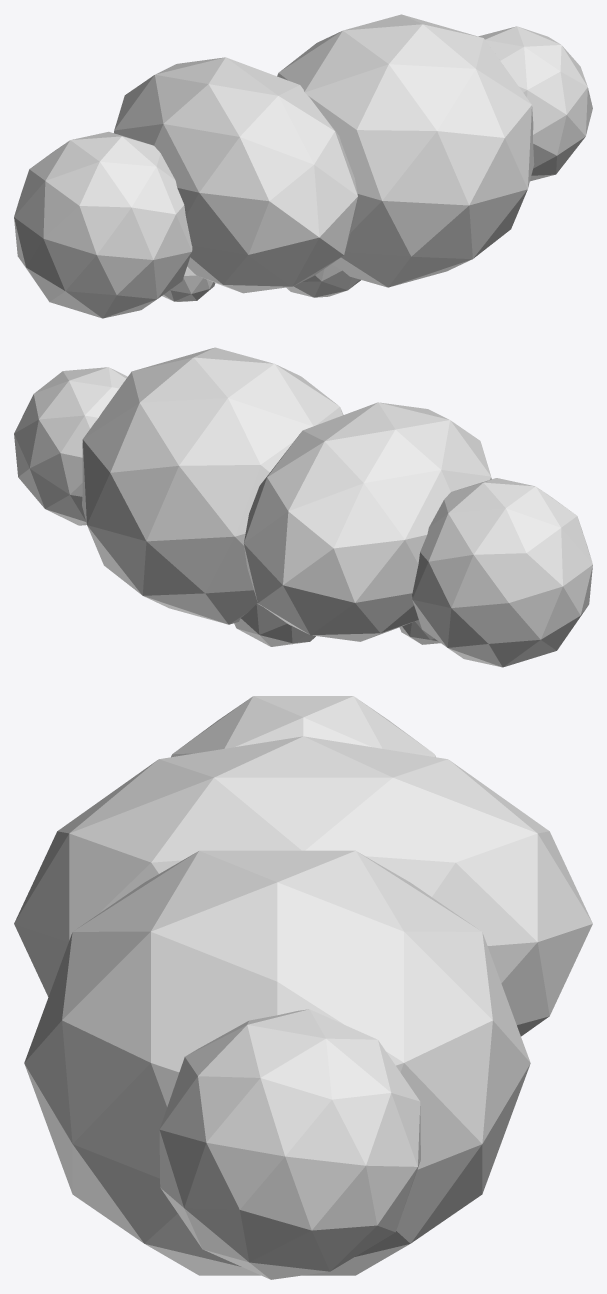
Rendered from Cloud_1.fbx.
The picture shows the model from 3 angles, top to bottom: view 1: azimuth 30°, elevation 25°; view 2: azimuth 150°, elevation 25°; view 3: azimuth 270°, elevation 25°; orthographic projection. The views are drawn at different scales.
Visible parts, largest first — view 1: Cloud_1; view 2: Cloud_1; view 3: Cloud_1.
Part boxes in pixels (x1,y1,x2,y2): Cloud_1: [14, 14, 592, 318]; Cloud_1: [14, 347, 592, 667]; Cloud_1: [14, 696, 592, 1279].
Size of the model in its own units: 24.19 by 10.51 by 12.95.
